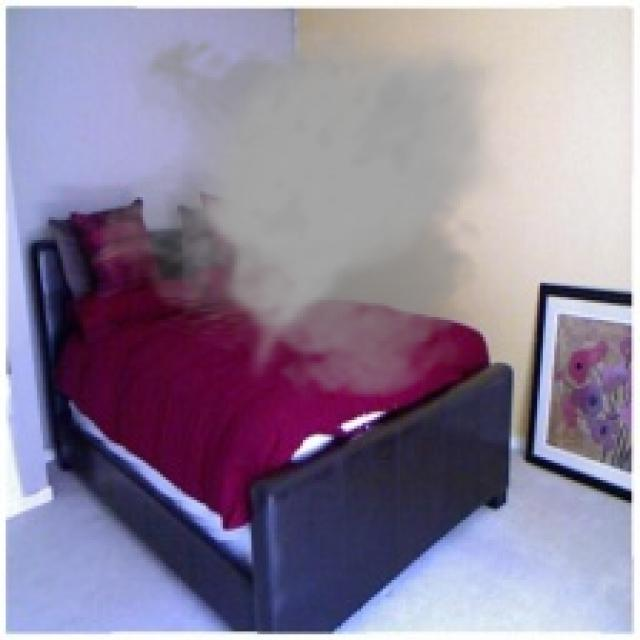smoke: (100, 26, 511, 403)
